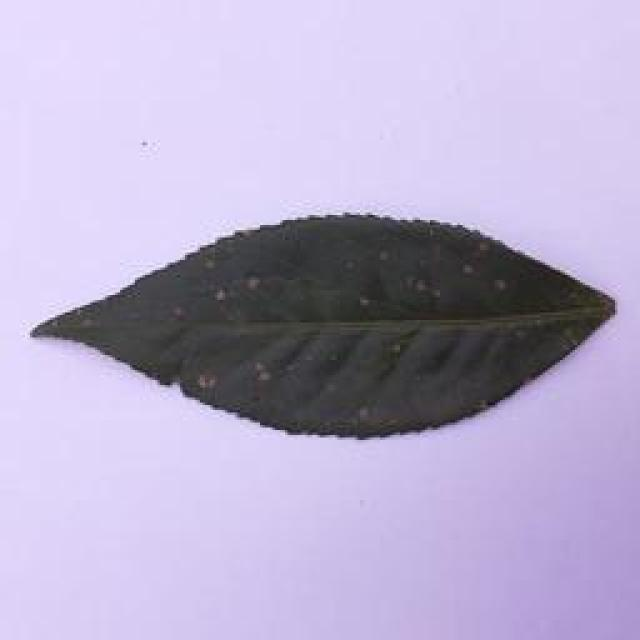Algal Leaf Spot: (18, 210, 623, 442)
